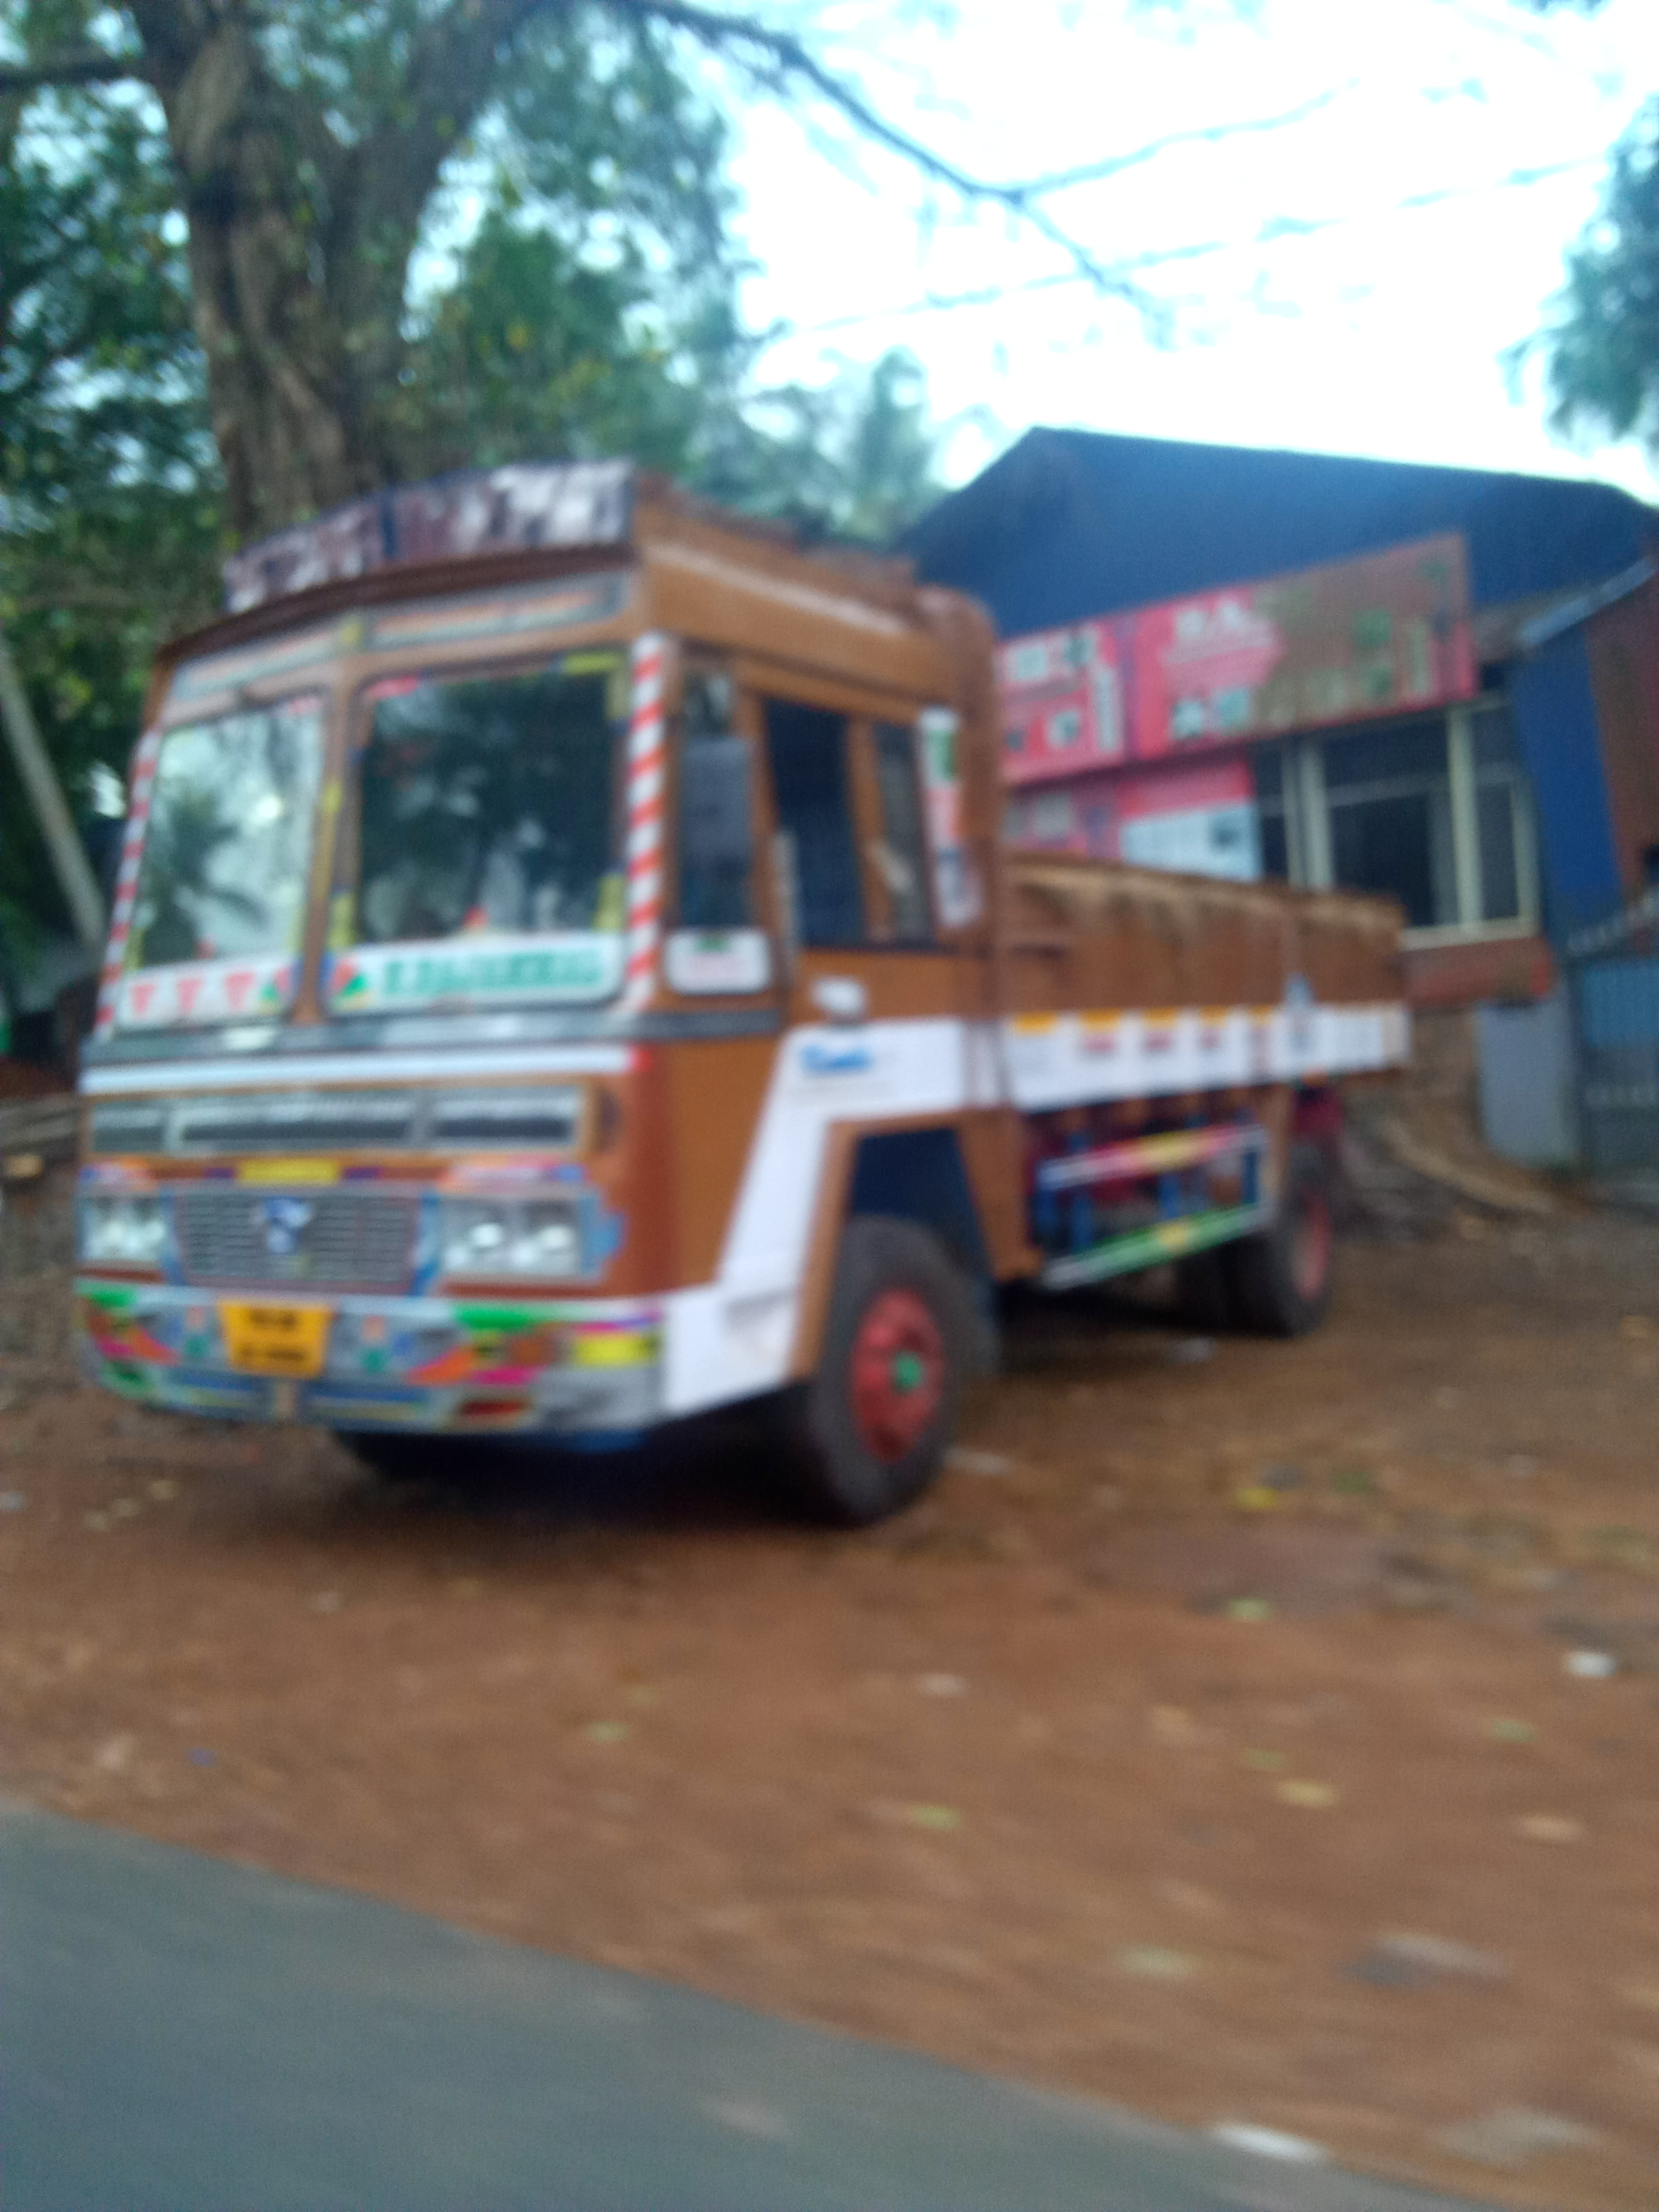truck: (52, 448, 1422, 1529)
